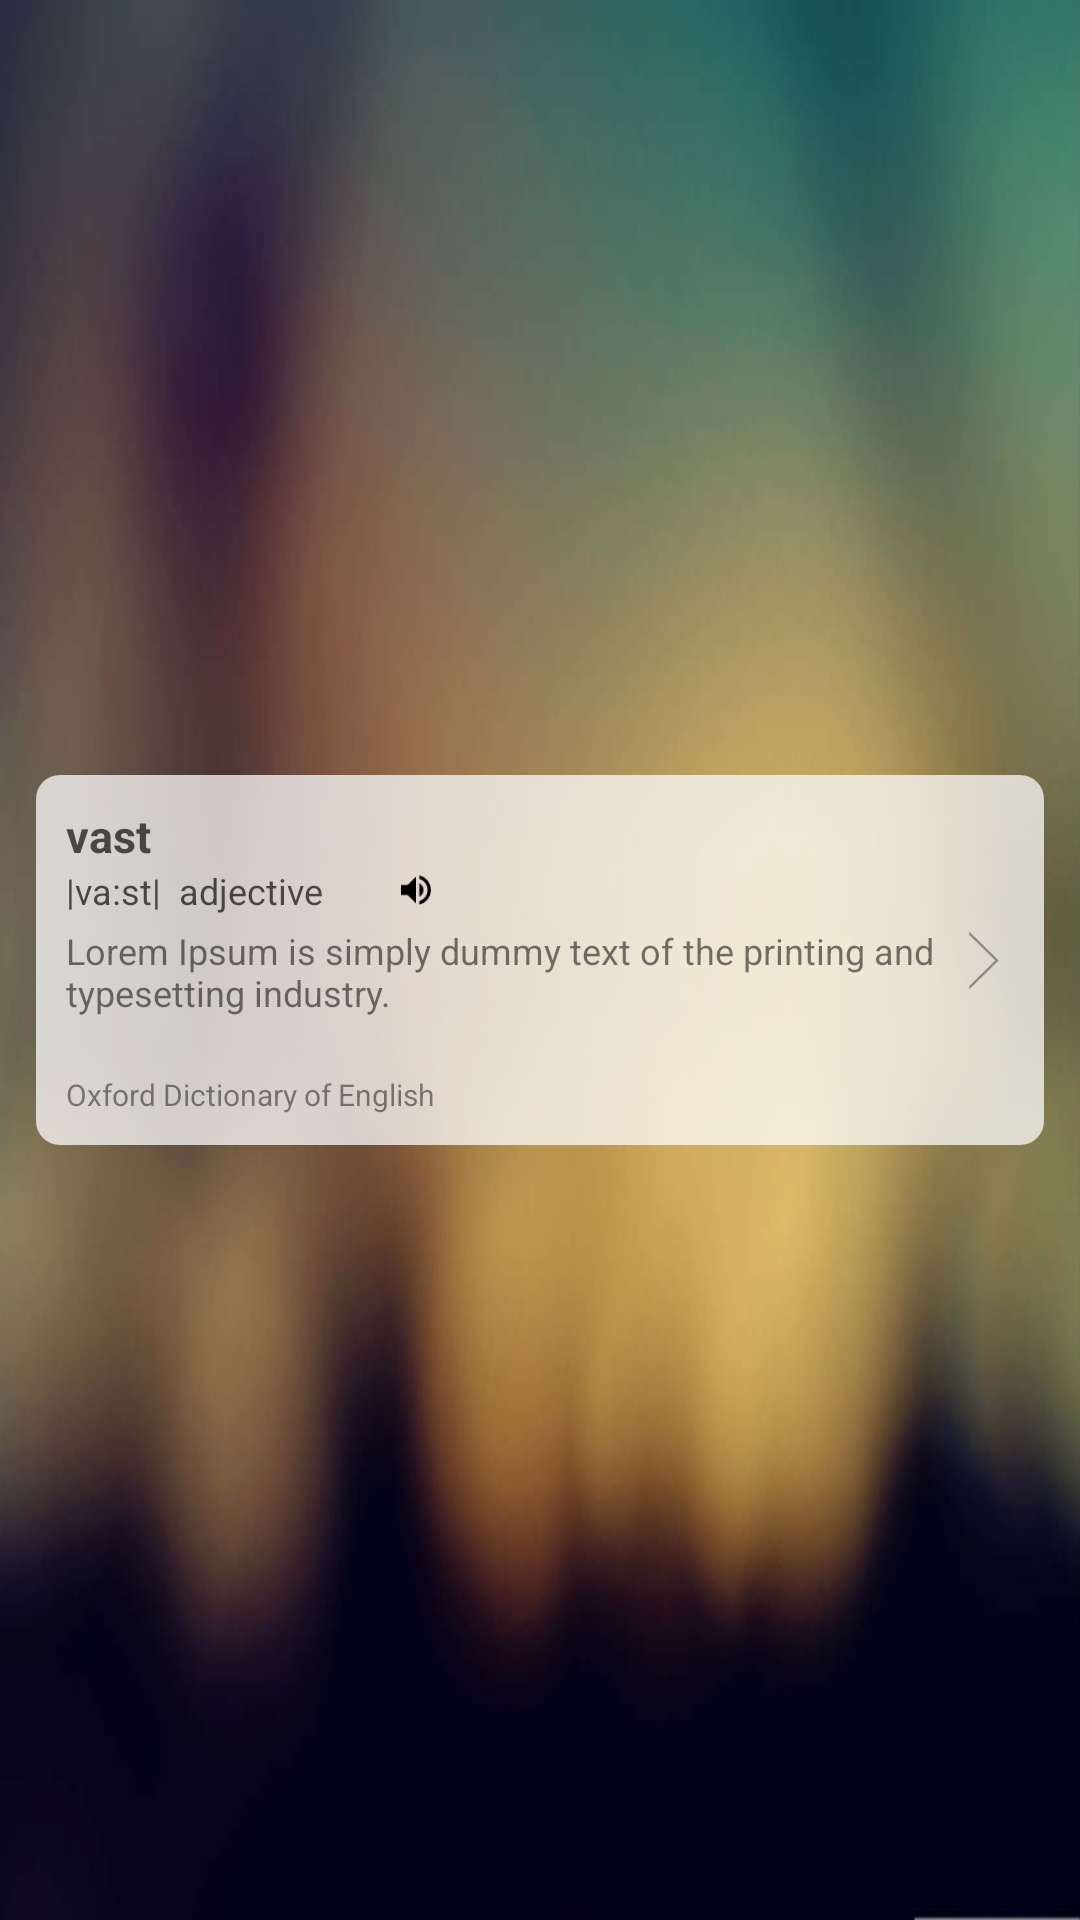

Point at icon controls on the screen. Image size 1080px×1920px, points as [x,y].
next: [984,960]
